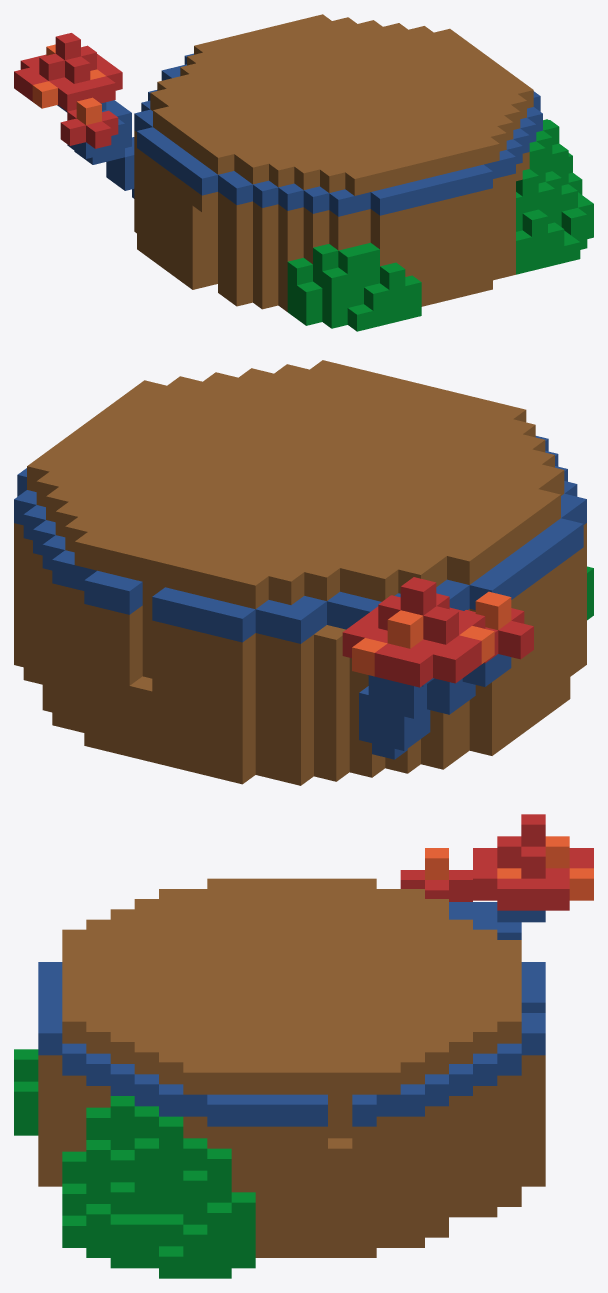
File: jump.obj
3 views of the same model, one above another, from view 1: azimuth 30°, elevation 25°; view 2: azimuth 150°, elevation 25°; view 3: azimuth 270°, elevation 25° (orthographic). The views are drawn at different scales.
Bounding box in the file's own units: 26 × 10 × 24.
